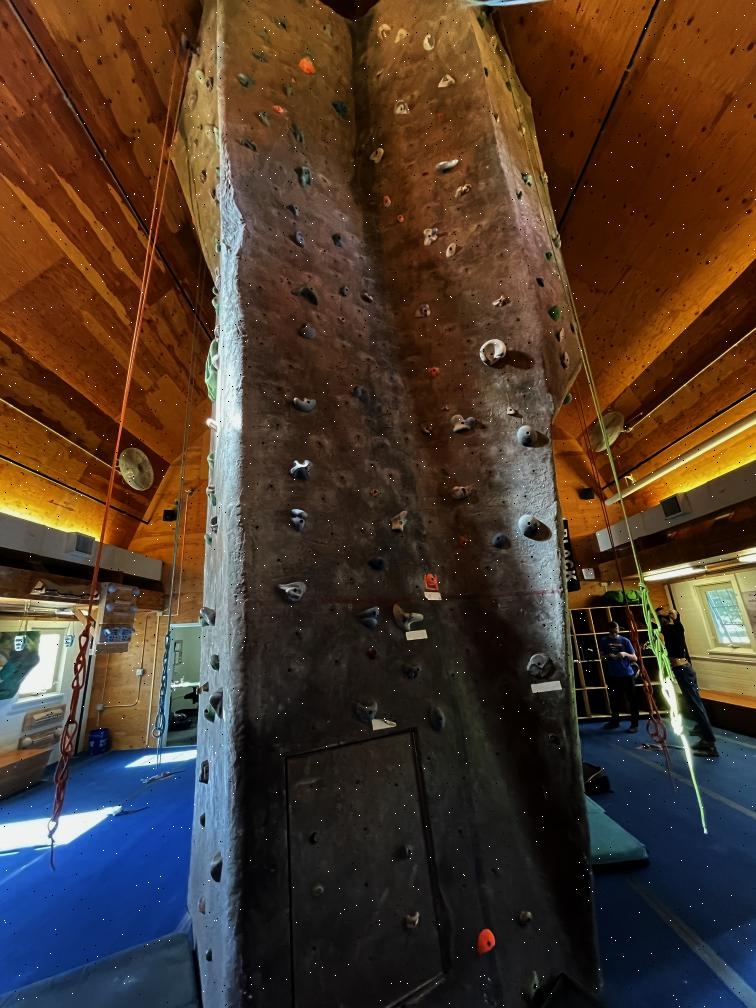Crimp: (254, 108, 273, 128), (456, 532, 472, 552), (559, 349, 572, 371), (285, 202, 301, 218), (424, 572, 438, 589), (420, 423, 437, 437), (270, 102, 286, 116), (338, 284, 352, 298), (538, 168, 550, 184), (336, 314, 350, 325), (429, 367, 443, 378), (569, 322, 580, 335), (506, 406, 518, 417), (208, 493, 218, 506), (505, 80, 514, 93), (483, 66, 490, 79), (493, 112, 502, 122), (439, 405, 450, 412), (516, 104, 524, 112)
Edges: (522, 650, 558, 679), (291, 162, 316, 190), (366, 552, 392, 572), (193, 760, 213, 786), (288, 121, 308, 146), (492, 293, 509, 309), (358, 291, 376, 304), (195, 169, 208, 182), (535, 276, 545, 287)
Foothold: (304, 880, 330, 904), (393, 840, 416, 866), (516, 910, 536, 930), (202, 946, 216, 965), (198, 809, 210, 829), (197, 895, 208, 915), (546, 731, 560, 745), (366, 646, 381, 659), (309, 830, 321, 843), (368, 488, 381, 497), (436, 110, 446, 121), (543, 252, 553, 262), (396, 213, 405, 224), (290, 77, 296, 85)
Hand-holds: (202, 340, 216, 403), (286, 507, 316, 534), (291, 279, 319, 306), (288, 457, 317, 482), (329, 96, 351, 122), (392, 26, 411, 48), (375, 20, 391, 40), (517, 123, 526, 138), (193, 685, 204, 697), (201, 682, 209, 692)
Jug: (390, 600, 425, 634), (476, 338, 512, 370), (274, 575, 308, 607), (351, 698, 381, 726), (522, 967, 544, 1003), (356, 604, 381, 631), (208, 851, 228, 884), (448, 414, 479, 435), (388, 508, 412, 535), (211, 682, 226, 725), (299, 318, 321, 340), (402, 910, 423, 933), (412, 302, 436, 321), (293, 395, 318, 413), (402, 661, 423, 681), (391, 96, 412, 116), (350, 386, 373, 404), (422, 227, 440, 250), (472, 9, 490, 32), (443, 240, 461, 260), (367, 146, 387, 163), (199, 604, 216, 624), (291, 230, 308, 248), (213, 125, 224, 152), (203, 417, 220, 434), (520, 171, 536, 189), (202, 122, 213, 148), (208, 651, 223, 670), (207, 515, 222, 534), (548, 304, 562, 323), (552, 232, 564, 254), (330, 230, 344, 248), (193, 67, 205, 85), (205, 452, 217, 469), (380, 194, 393, 209), (556, 327, 568, 343), (203, 532, 214, 548), (212, 238, 223, 254), (205, 484, 216, 496), (213, 165, 223, 178), (516, 190, 525, 202), (213, 304, 220, 317), (212, 286, 219, 296)
Pinch: (432, 156, 462, 176), (446, 483, 476, 501), (452, 179, 474, 201), (237, 135, 261, 152)
Pocket: (435, 72, 457, 92), (422, 33, 438, 55), (209, 324, 224, 343), (205, 74, 217, 93)
Sloper: (471, 925, 500, 958), (512, 423, 542, 450), (514, 512, 542, 539), (424, 702, 448, 732), (237, 71, 258, 93), (489, 531, 509, 551), (300, 56, 318, 78), (201, 700, 215, 724), (561, 392, 575, 408), (210, 354, 223, 369)
